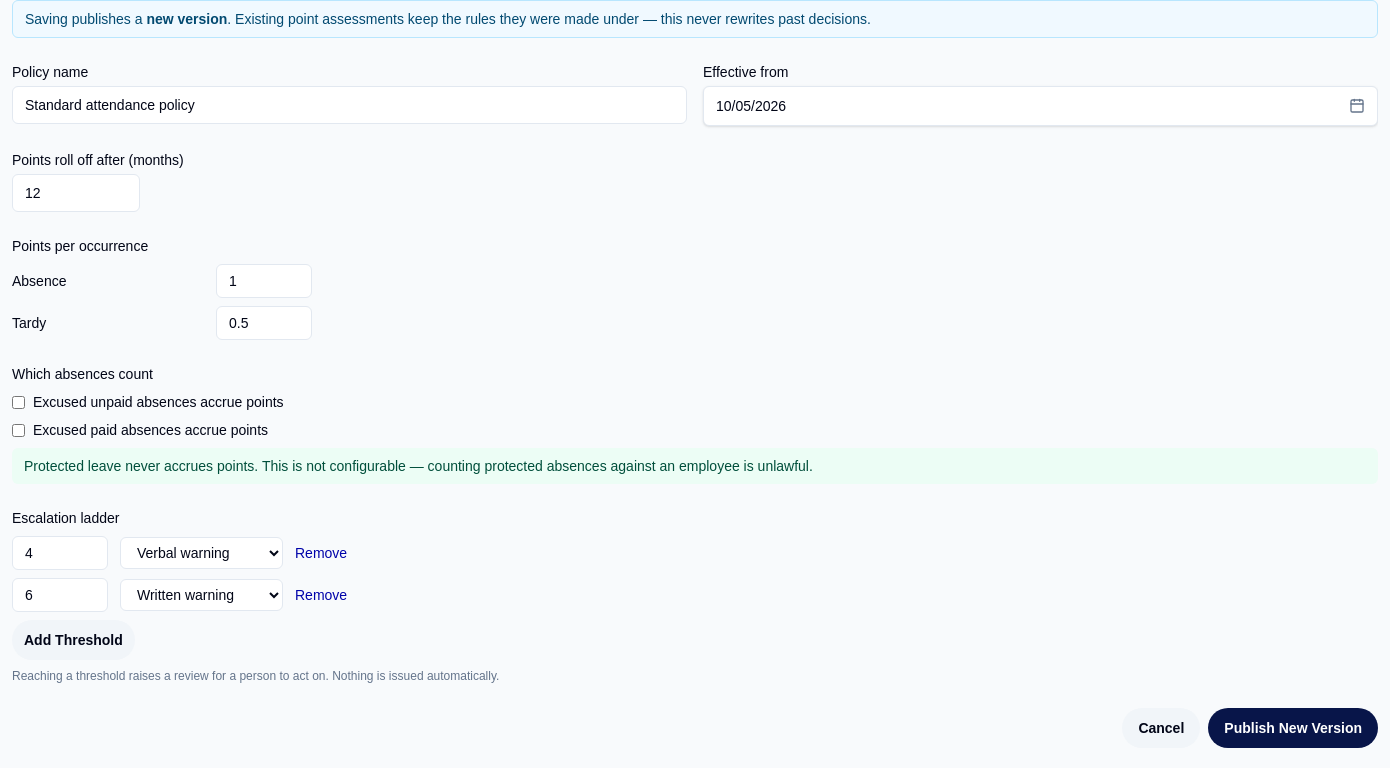
Scenario: MhdAttendancePolicyEditor numeric fields › asks for the roll-off in words when it is cleared, not "expected number, received NaN"
Clear the number field labelled "Points roll off after (months)" at coordinates (76, 193), box [12,174,140,212]
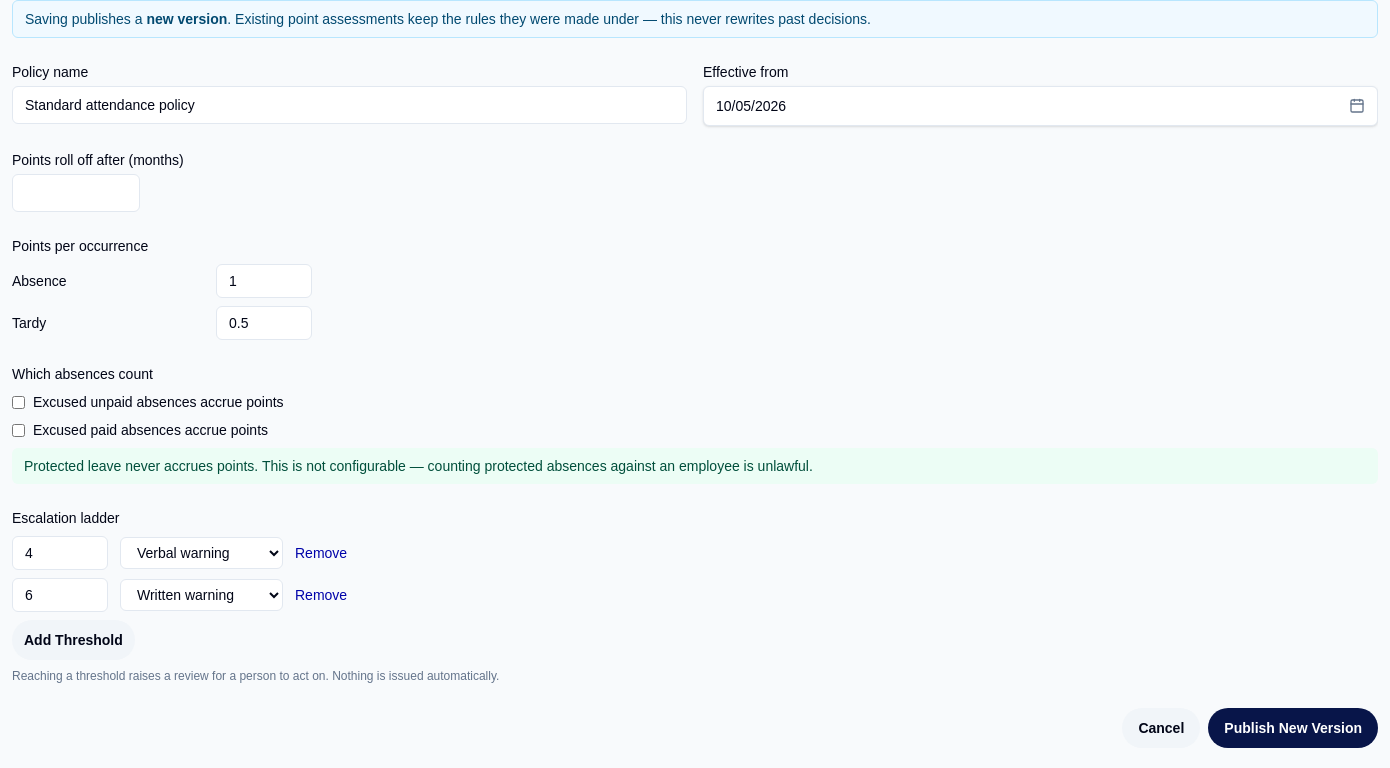
Click the button "Publish new version".
click(1293, 728)  # box [1208,708,1378,748]
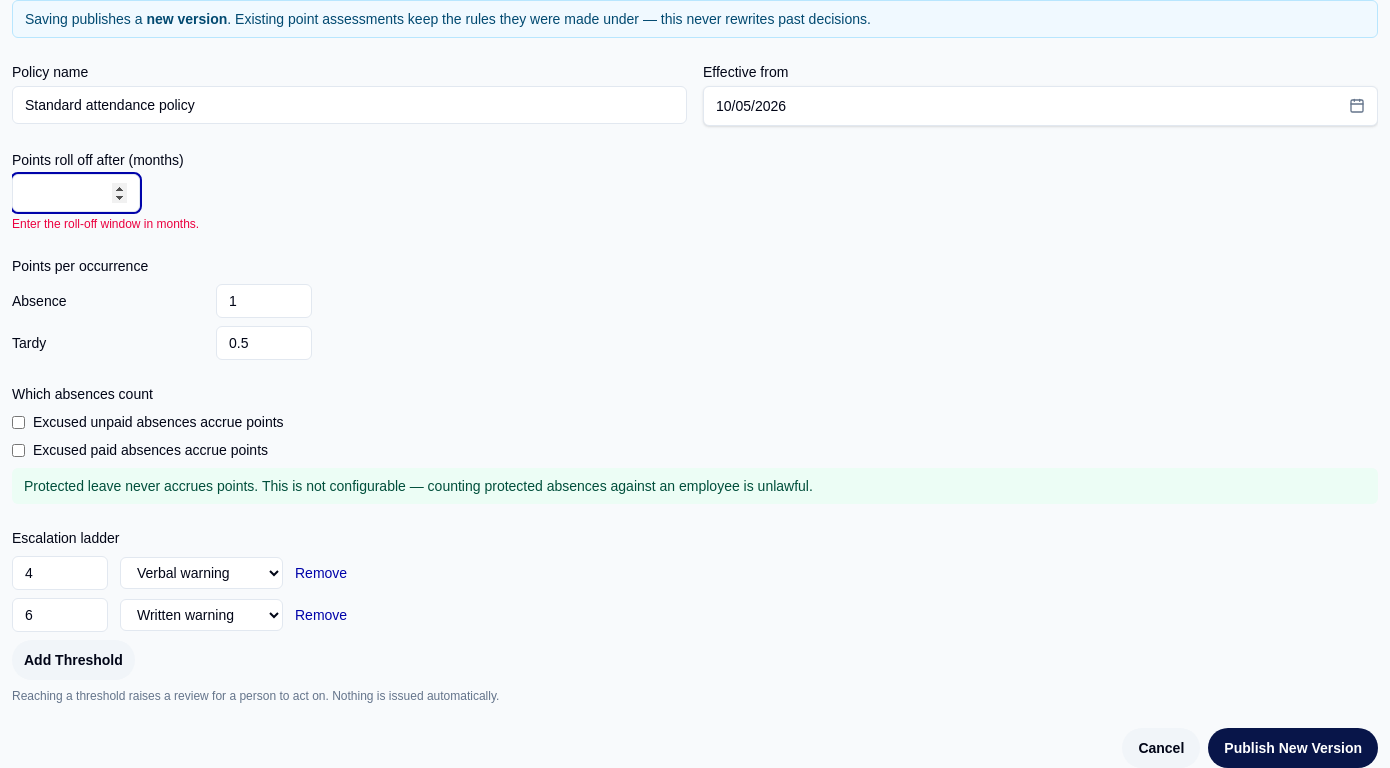
Expected: the text "Enter the roll-off window in months." is shown, [12,217,199,231]
